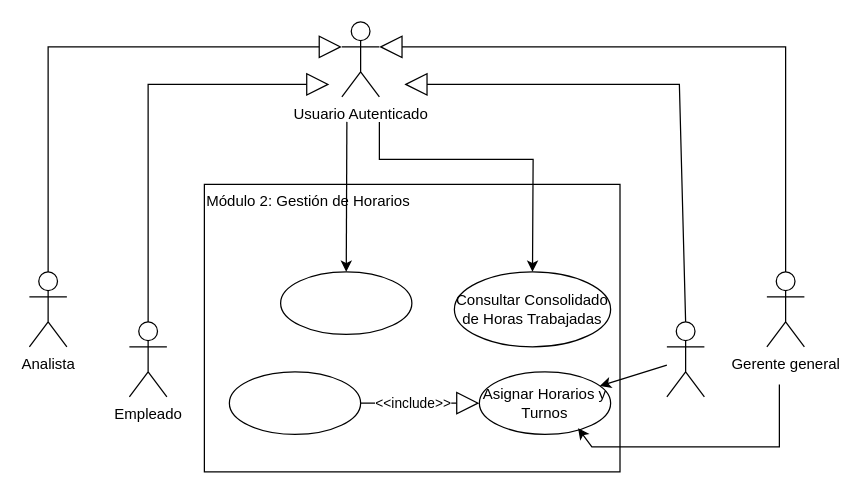
Some shapes in this 861 by 494 pixel diagram are drawn without their labels. Each missing label, with the centre of its shape:
Consultar horario asignado: [345,302]
Supervisor: [685,359]
Validar Disponibilidad de Personal: [294,402]
